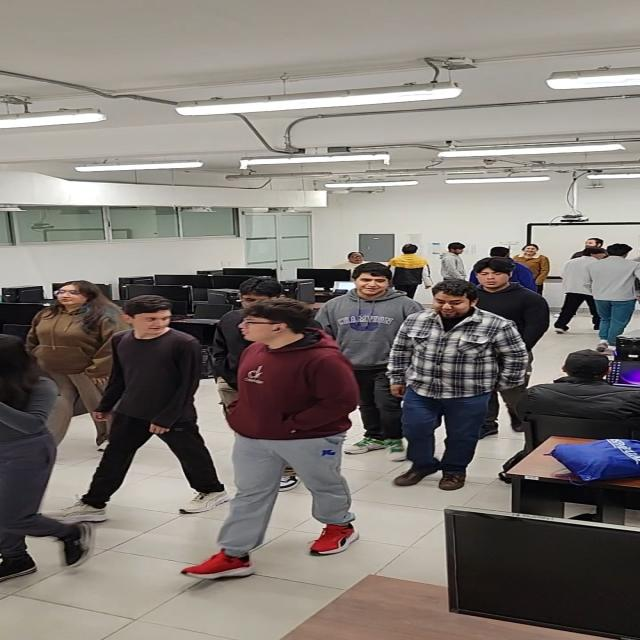Persona: (218, 297, 364, 571), (92, 290, 207, 524), (391, 280, 510, 490), (21, 275, 119, 446), (327, 260, 409, 460), (594, 243, 640, 344), (556, 243, 600, 333), (389, 237, 429, 296)
